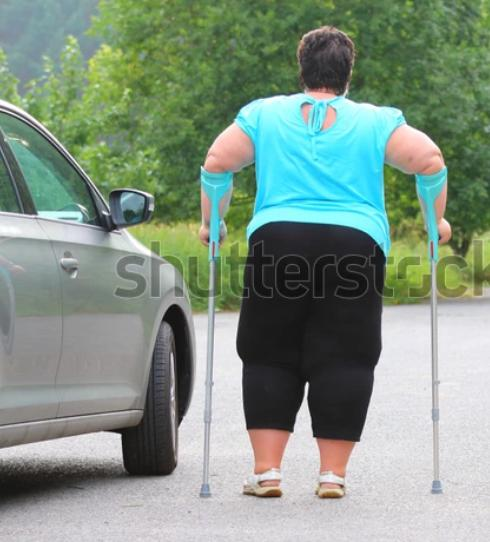crutches: (198, 26, 452, 498)
